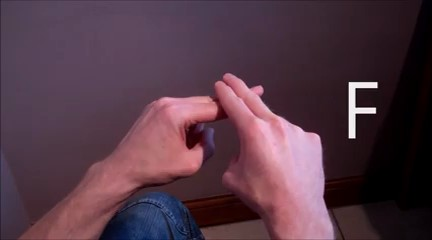F: (118, 66, 336, 206)
